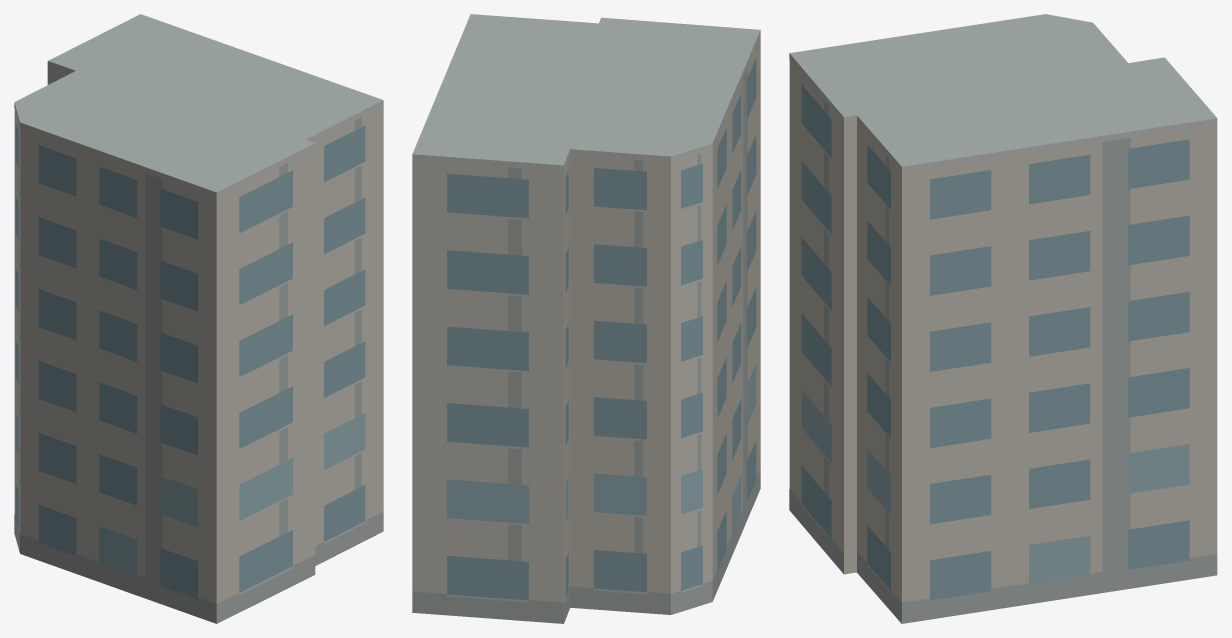
Rendered from survey-upis-32853657.glb.
3 renders of one model, left to right at view 1: azimuth 30°, elevation 25°; view 2: azimuth 150°, elevation 25°; view 3: azimuth 270°, elevation 25°, orthographic. The views are drawn at different scales.
Parts seen in each view (by area): view 1: survey-upis-32853657.tmp; view 2: survey-upis-32853657.tmp; view 3: survey-upis-32853657.tmp.
Boxes of the visible parts, x1,y1,x2,y2 form: survey-upis-32853657.tmp: (14, 14, 383, 623); survey-upis-32853657.tmp: (412, 14, 760, 623); survey-upis-32853657.tmp: (789, 14, 1217, 623).
Bounding box in the file's own units: 13.13 × 18.3 × 15.54.
